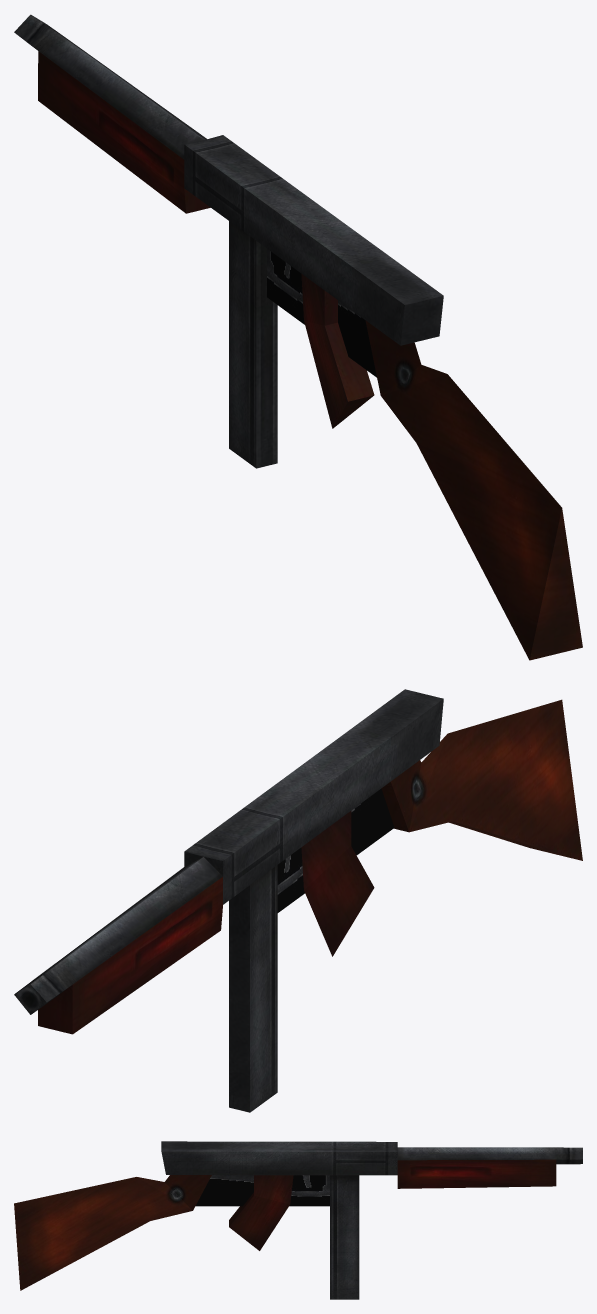
The model's file is gun.glb.
3 views of the same model, one above another, from view 1: azimuth 30°, elevation 25°; view 2: azimuth 150°, elevation 25°; view 3: azimuth 270°, elevation 25° (orthographic). The views are drawn at different scales.
Visible parts, largest first — view 1: Asset3DLoader.sceneRoot; view 2: Asset3DLoader.sceneRoot; view 3: Asset3DLoader.sceneRoot.
Part boxes in pixels (x1,y1,x2,y2): Asset3DLoader.sceneRoot: [14, 14, 582, 660]; Asset3DLoader.sceneRoot: [14, 689, 582, 1112]; Asset3DLoader.sceneRoot: [14, 1141, 582, 1299].
Size of the model in its own units: 0.145 by 0.7284 by 2.5.
1 material, 1 textured.
